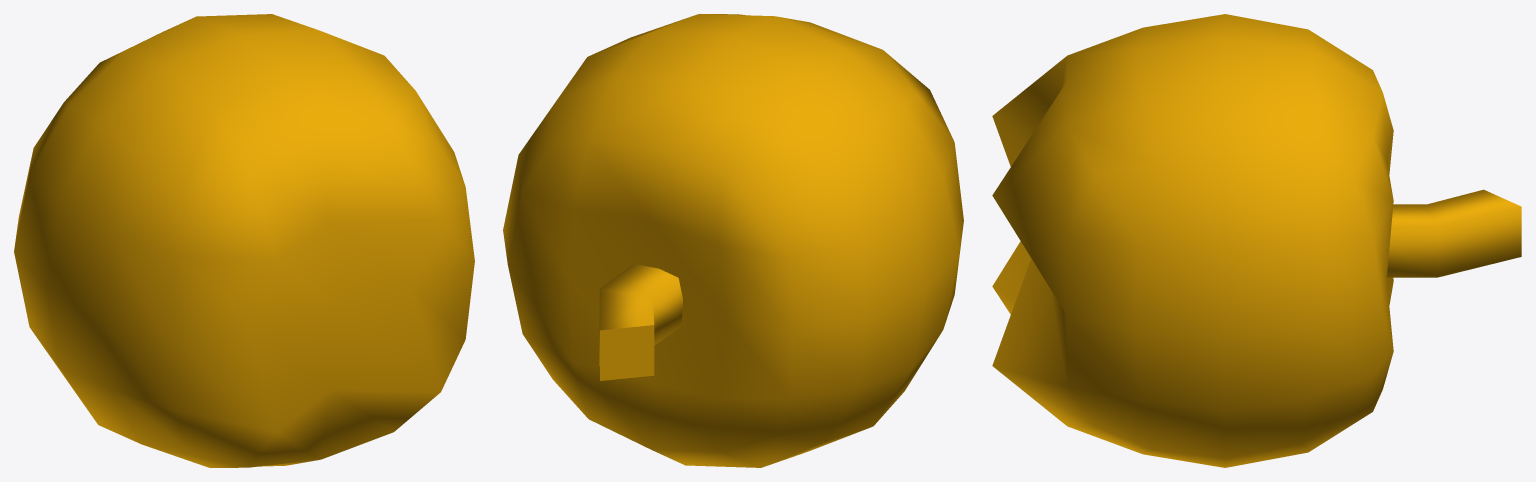
Rendered from Manzana proyectil.fbx.
The picture shows the model from 3 angles, left to right: view 1: azimuth 30°, elevation 25°; view 2: azimuth 150°, elevation 25°; view 3: azimuth 270°, elevation 25°; orthographic projection.
Visible parts, largest first — view 1: polySurface4; view 2: polySurface4, polySurface3; view 3: polySurface4, polySurface3.
Part boxes in pixels (<box>): polySurface4: <box>14,14,474,467</box>; polySurface4: <box>503,14,963,467</box>; polySurface3: <box>599,264,682,380</box>; polySurface4: <box>992,14,1393,467</box>; polySurface3: <box>1387,189,1521,277</box>.
Size of the model in its own units: 10.16 by 10.16 by 12.02.
